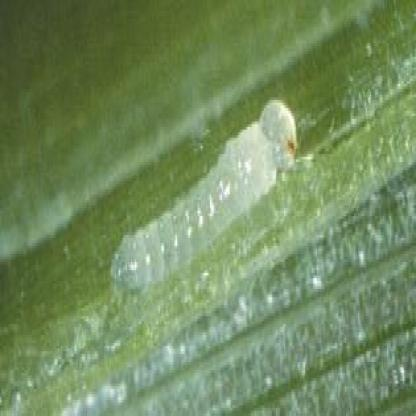sawfly: (108, 97, 300, 297)
